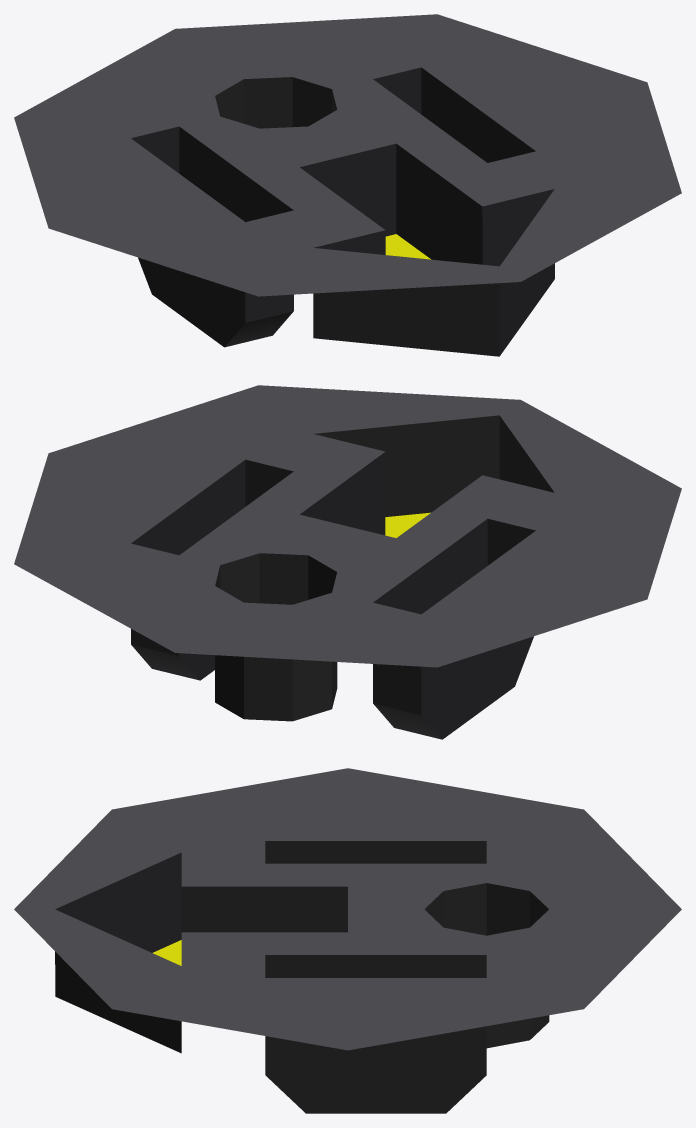
Rendered from Msh_Socket_Female_V7.FBX.
3 views of the same model, one above another, from view 1: azimuth 30°, elevation 25°; view 2: azimuth 150°, elevation 25°; view 3: azimuth 270°, elevation 25° (orthographic). The views are drawn at different scales.
Parts seen in each view (by area): view 1: Msh_Socket_FemaleV7; view 2: Msh_Socket_FemaleV7; view 3: Msh_Socket_FemaleV7.
Boxes of the visible parts, left/top/right/bottom form: Msh_Socket_FemaleV7: left=14, top=14, right=681, bottom=356; Msh_Socket_FemaleV7: left=14, top=385, right=681, bottom=739; Msh_Socket_FemaleV7: left=14, top=768, right=681, bottom=1113.
Bounding box in the file's own units: 0.0272 × 0.0272 × 0.0061.
